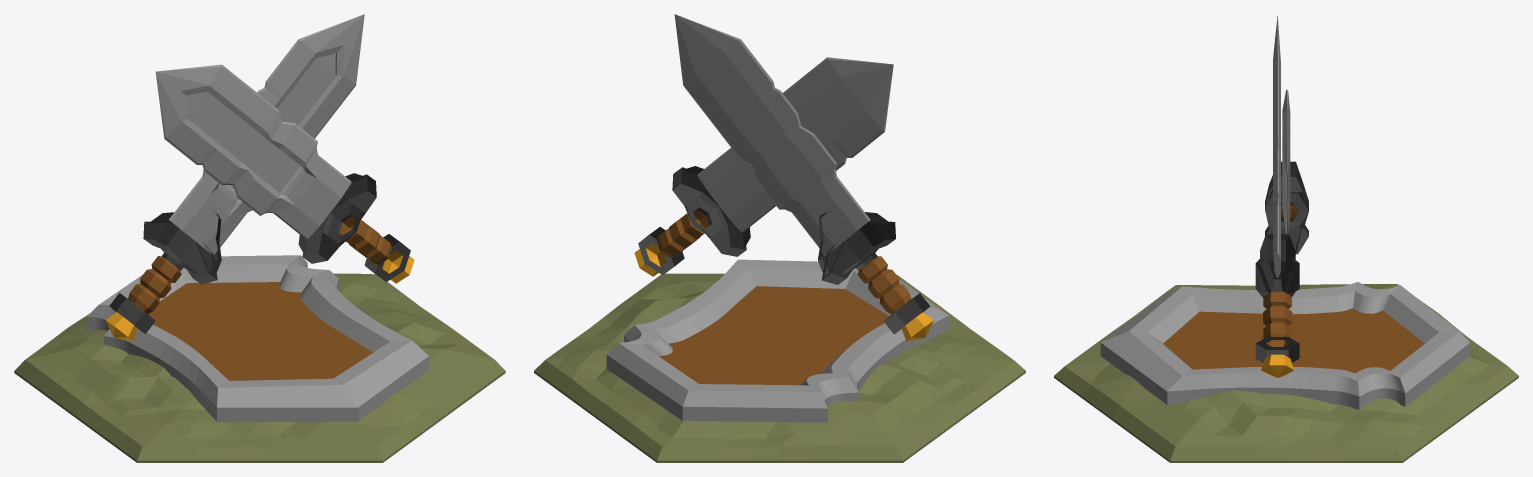
The model's file is battle.glb.
The picture shows the model from 3 angles, left to right: view 1: azimuth 30°, elevation 25°; view 2: azimuth 150°, elevation 25°; view 3: azimuth 270°, elevation 25°; orthographic projection. The views are drawn at different scales.
Parts seen in each view (by area): view 1: sword, shield, land; view 2: sword, shield, land; view 3: shield, land, sword.
Part boxes in pixels (x1,y1,x2,y2): sword: (105, 14, 414, 341); shield: (86, 255, 428, 421); land: (14, 273, 505, 462); sword: (634, 14, 933, 341); shield: (606, 259, 949, 422); land: (534, 273, 1025, 462); shield: (1100, 282, 1470, 409); land: (1054, 284, 1518, 462); sword: (1255, 16, 1308, 377).
Size of the model in its own units: 1.73 by 1.5 by 2.
